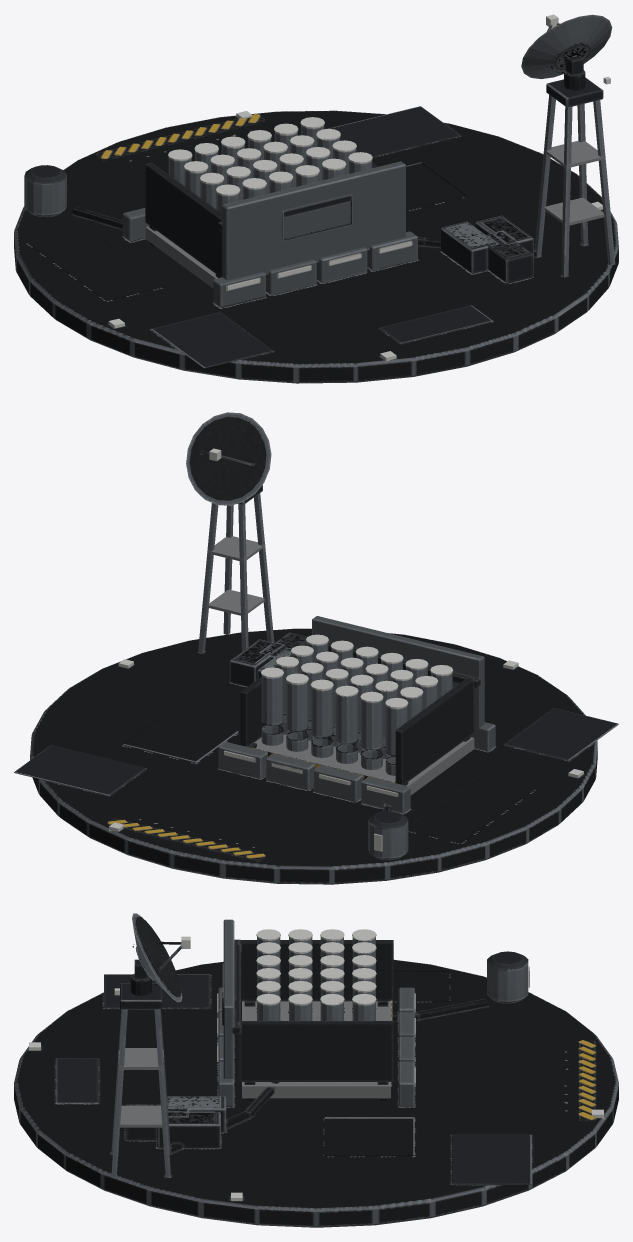
The model's file is chs_basilisk.fbx.
The picture shows the model from 3 angles, top to bottom: view 1: azimuth 30°, elevation 25°; view 2: azimuth 150°, elevation 25°; view 3: azimuth 270°, elevation 25°; orthographic projection. The views are drawn at different scales.
Visible parts, largest first — view 1: base_bar, launcher_bar, launcher_glow_weapon_bar, radar_bar, base_glow_running_bar; view 2: base_bar, launcher_bar, radar_bar, launcher_glow_weapon_bar, base_glow_running_bar; view 3: base_bar, launcher_bar, launcher_glow_weapon_bar, radar_bar, base_glow_running_bar.
Boxes of the visible parts, x1,y1,x2,y2 form: base_bar: (14,77,618,383); launcher_bar: (145,125,405,288); launcher_glow_weapon_bar: (168,117,372,196); radar_bar: (521,14,612,90); base_glow_running_bar: (108,76,610,360); base_bar: (14,485,618,884); launcher_bar: (240,616,484,795); radar_bar: (186,412,271,505); launcher_glow_weapon_bar: (261,634,453,708); base_glow_running_bar: (109,659,583,831); base_bar: (14,951,618,1227); launcher_bar: (222,919,393,1100); launcher_glow_weapon_bar: (256,929,376,1005); radar_bar: (130,913,182,1002); base_glow_running_bar: (29,988,603,1200).
Bounding box in the file's own units: 2278 × 1305 × 2278.
Materials: 2 (2 with a texture image).
